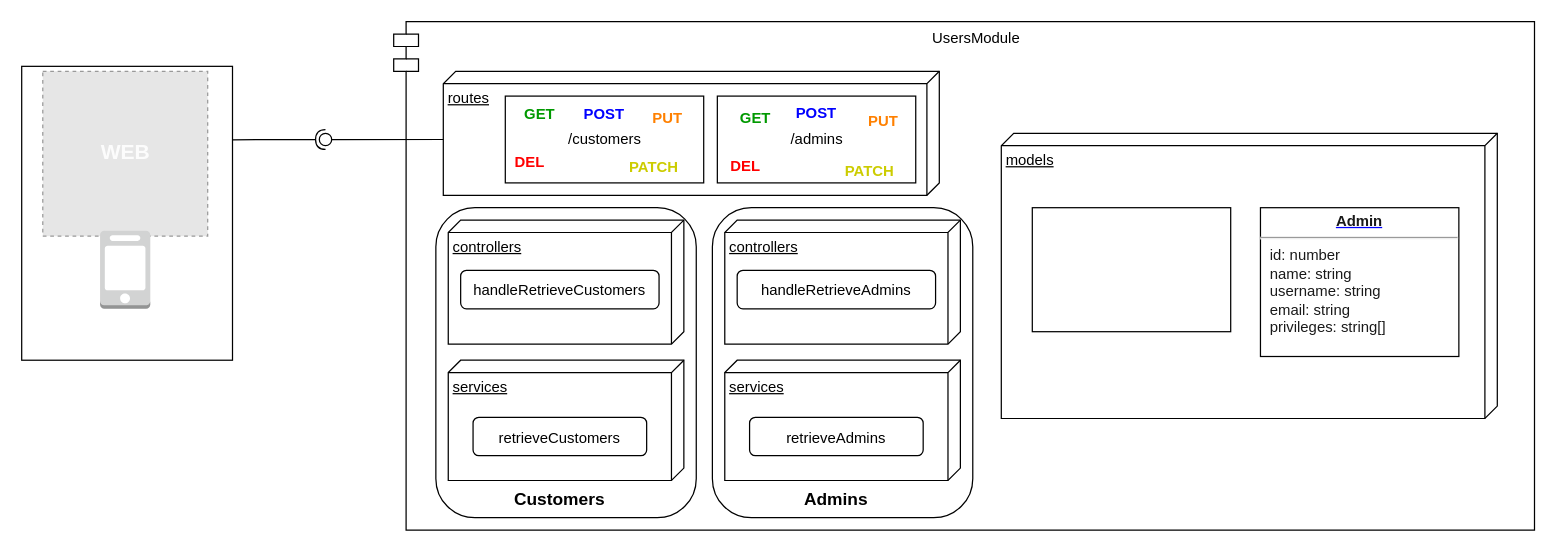
The diagram is 1556 pixels wide and 552 high, and some of its shapes have lost their labels. Grey dashed boxes stand in for pictures. Each missing label, with the centre of its shape:
Customer id: number name: string username: string email: string: the point at 1131,269
MOBILE: the point at 124,269
